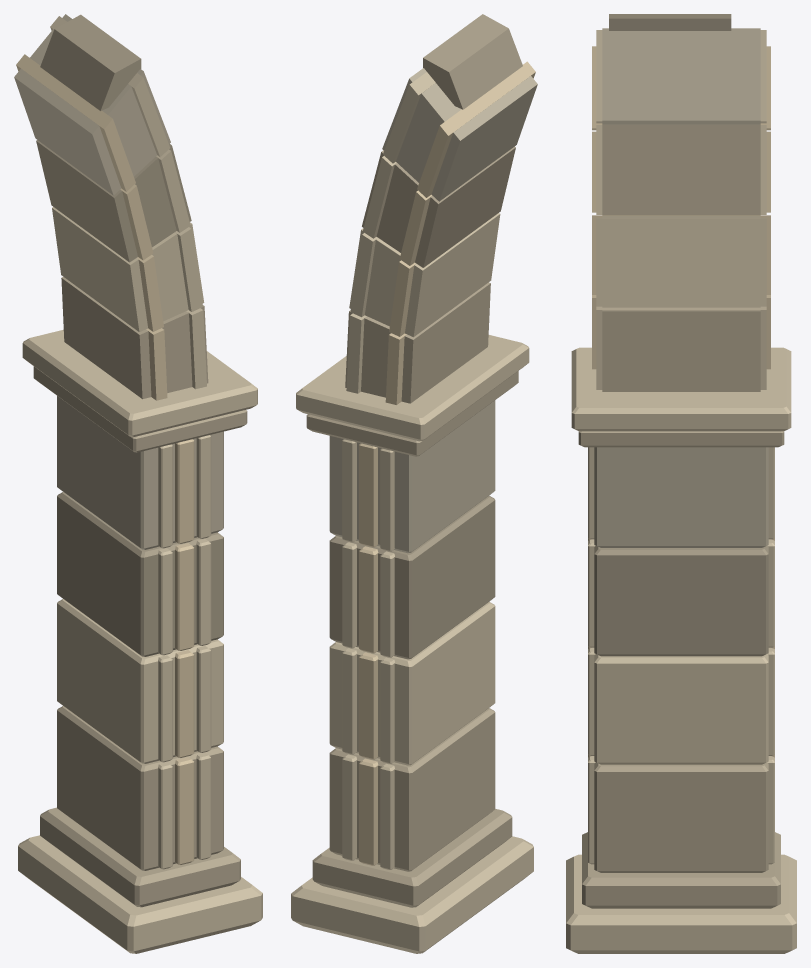
Rendered from Arch_Fragment_R_4m.fbx.
The picture shows the model from 3 angles, left to right: view 1: azimuth 30°, elevation 25°; view 2: azimuth 150°, elevation 25°; view 3: azimuth 270°, elevation 25°; orthographic projection. The views are drawn at different scales.
Parts seen in each view (by area): view 1: Arch_Fragment_R_4m; view 2: Arch_Fragment_R_4m; view 3: Arch_Fragment_R_4m.
Part boxes in pixels (x1=…): Arch_Fragment_R_4m: x1=14, y1=14, x2=262, y2=953; Arch_Fragment_R_4m: x1=291, y1=14, x2=537, y2=953; Arch_Fragment_R_4m: x1=566, y1=14, x2=796, y2=953.
Bounding box in the file's own units: 0.8006 × 4.33 × 1.02.
